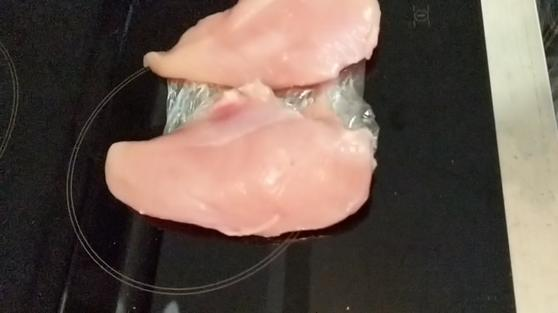chicken_fillet: (102, 96, 373, 235), (142, 1, 380, 86)
